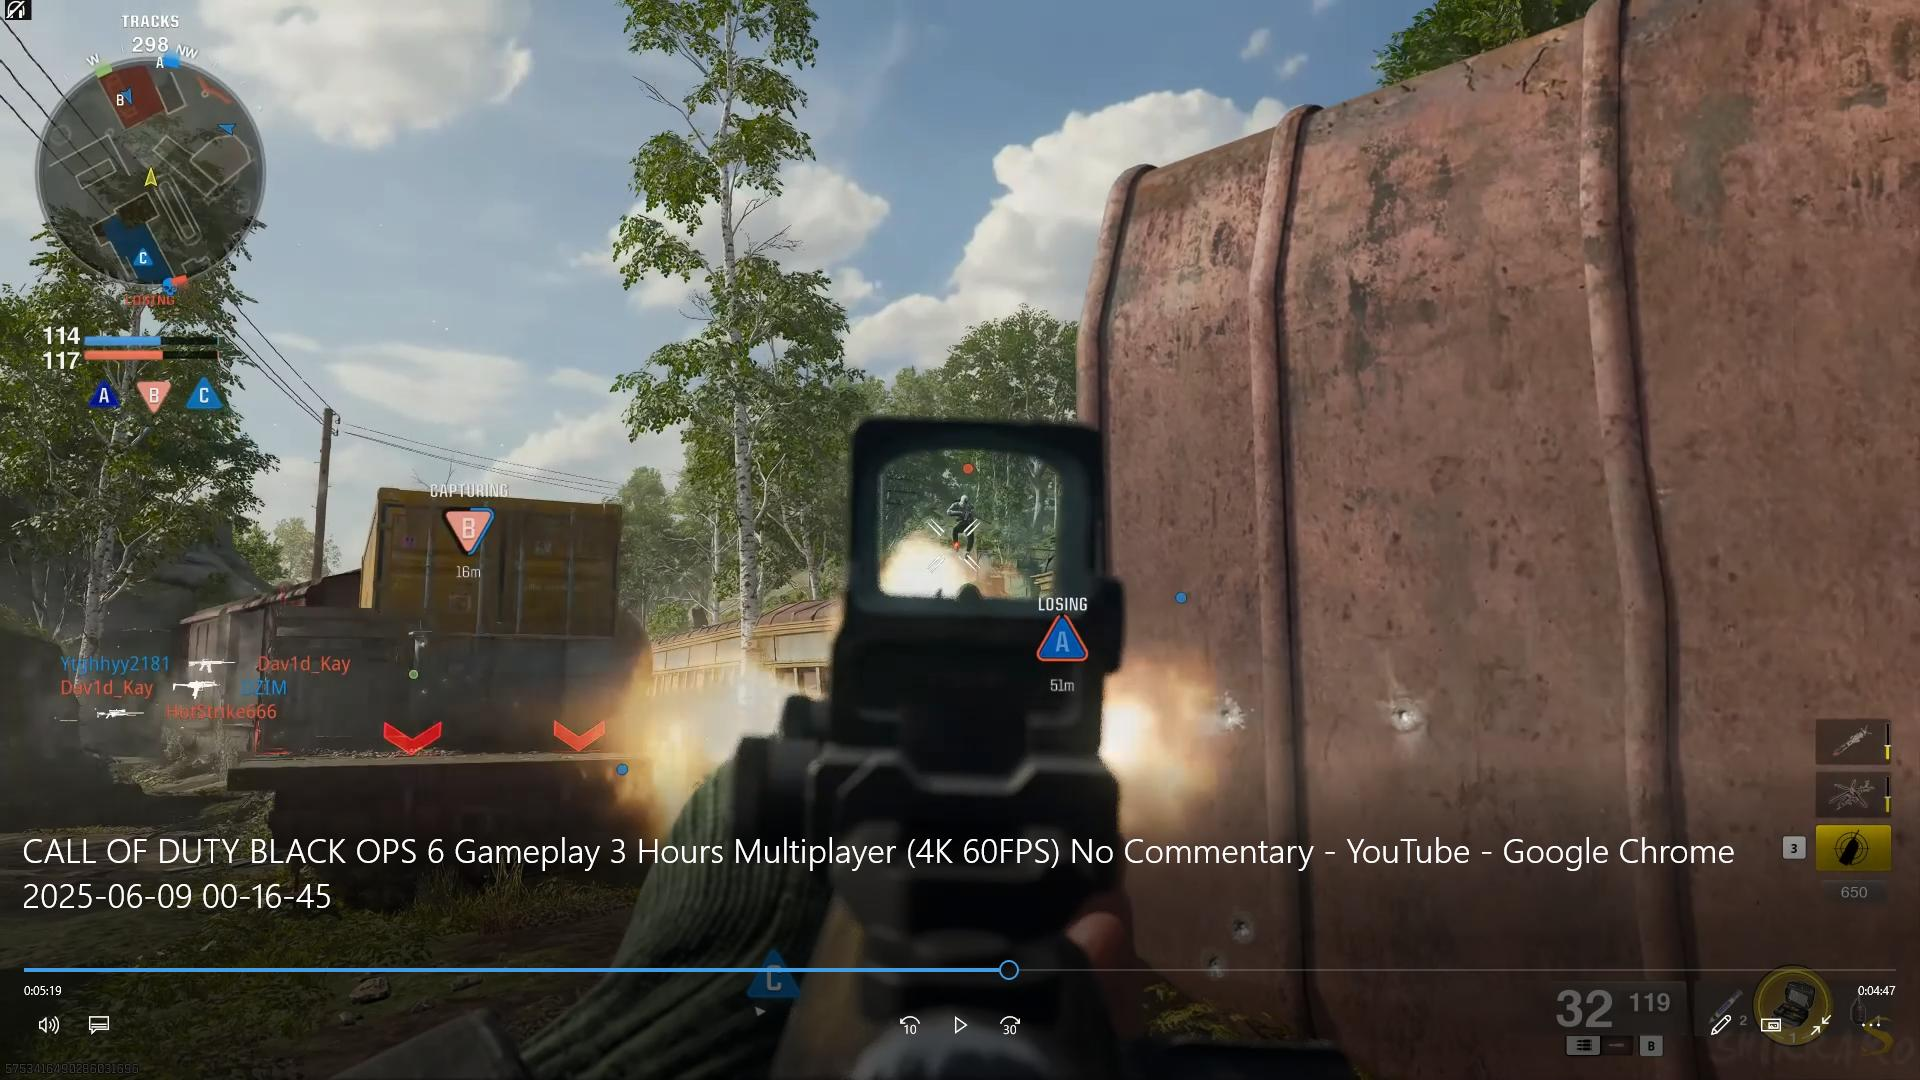Enemy: (948, 492, 980, 554)
